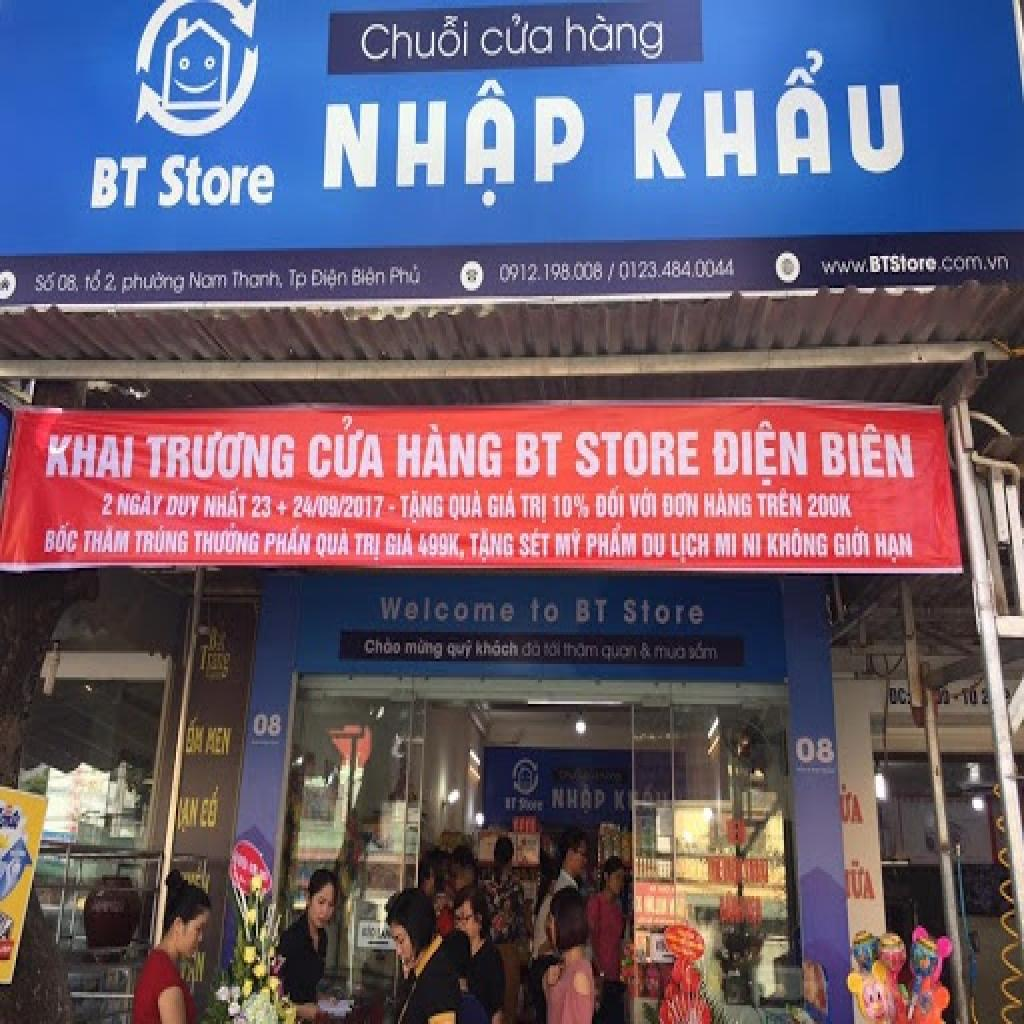text: (618, 37, 918, 203), (318, 72, 594, 213), (142, 429, 300, 488), (150, 147, 278, 216), (572, 424, 706, 485), (388, 416, 506, 483), (708, 411, 810, 488), (356, 8, 474, 69), (302, 411, 394, 488), (816, 248, 1016, 283), (560, 8, 668, 72), (818, 416, 918, 485), (42, 432, 140, 488), (378, 592, 518, 629), (476, 8, 558, 67), (84, 149, 154, 216), (616, 253, 740, 288), (510, 427, 568, 485), (192, 520, 264, 563), (620, 595, 710, 629), (290, 493, 390, 523), (498, 261, 608, 288), (764, 525, 832, 563), (120, 267, 190, 301), (584, 523, 640, 565), (466, 525, 518, 568), (550, 781, 608, 819), (700, 485, 756, 523), (262, 522, 314, 562), (754, 485, 808, 523), (416, 528, 470, 565), (134, 523, 192, 557), (202, 482, 250, 522), (396, 488, 446, 525), (872, 528, 918, 568), (792, 736, 838, 776), (838, 778, 870, 834), (806, 491, 858, 525), (82, 523, 134, 557), (114, 488, 168, 520), (40, 520, 82, 560), (312, 526, 354, 566), (832, 522, 874, 562), (668, 531, 712, 568), (230, 267, 286, 296), (246, 706, 286, 746), (196, 778, 224, 834), (448, 486, 486, 526), (660, 488, 702, 523), (472, 635, 522, 664), (592, 482, 628, 522), (518, 525, 554, 563), (486, 486, 520, 526), (572, 595, 612, 629), (310, 264, 352, 296), (552, 490, 594, 522), (526, 592, 562, 629), (626, 485, 660, 523), (384, 525, 418, 563), (386, 262, 426, 294), (352, 528, 384, 568), (402, 635, 446, 664), (182, 712, 208, 760), (204, 722, 234, 762), (518, 491, 550, 528), (686, 638, 722, 670), (554, 525, 584, 563), (188, 269, 230, 296), (362, 632, 404, 659), (350, 264, 388, 293), (164, 493, 204, 520), (562, 637, 600, 664), (598, 642, 640, 666), (652, 637, 688, 664), (640, 530, 670, 562), (178, 798, 202, 838), (444, 637, 478, 664), (56, 269, 82, 299), (248, 493, 274, 523), (740, 530, 764, 562), (540, 635, 566, 664), (84, 264, 106, 296), (34, 269, 60, 296), (714, 531, 738, 560), (886, 686, 914, 710), (288, 267, 310, 296), (518, 795, 548, 813), (960, 683, 980, 709), (104, 266, 120, 298), (522, 638, 542, 662), (100, 491, 116, 520), (612, 787, 628, 816), (978, 683, 992, 712), (504, 795, 520, 816)
